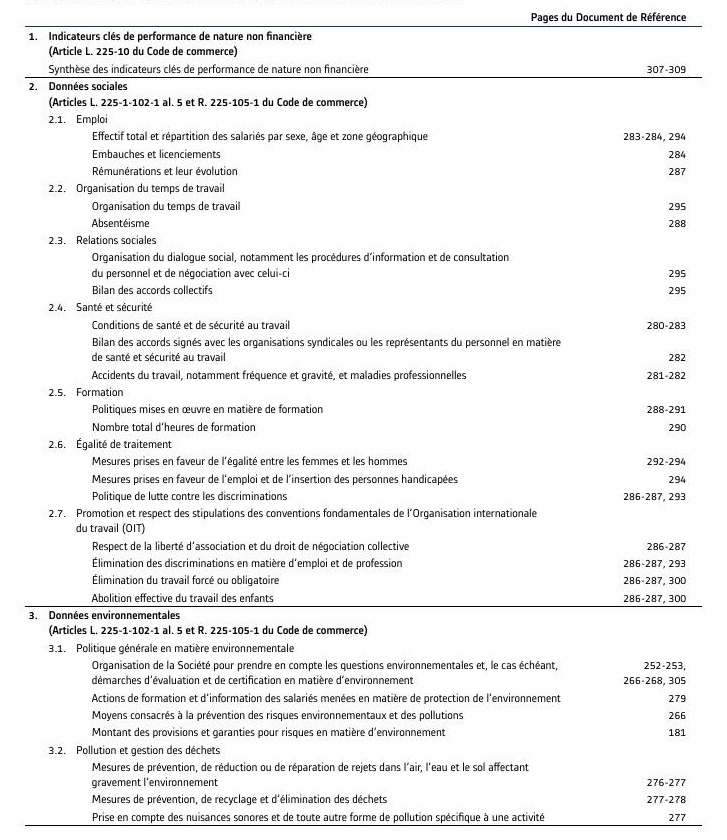table: (0, 0, 727, 840)
